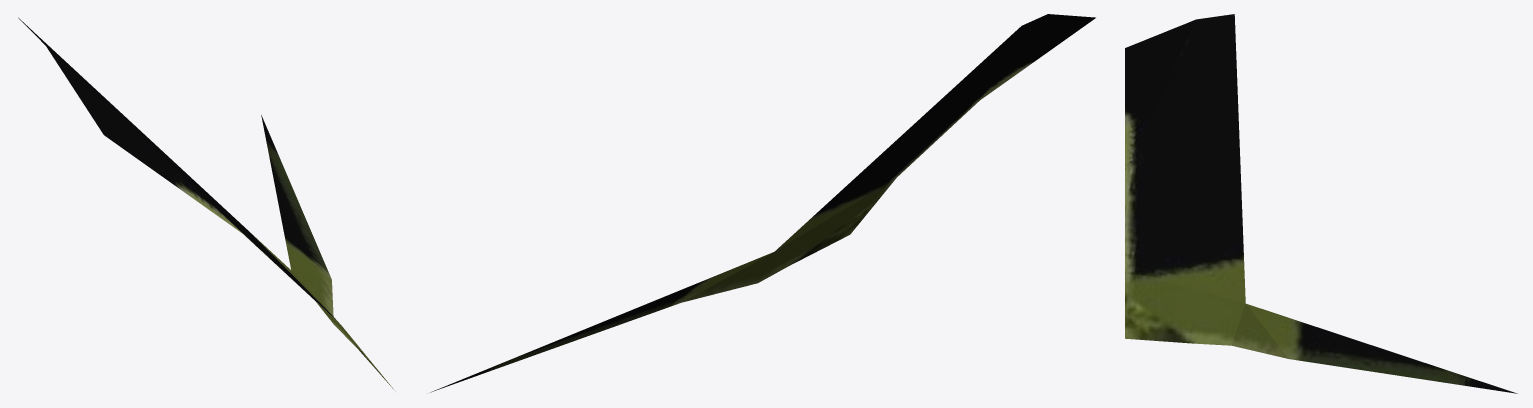
3 views of the same model, side by side, from view 1: azimuth 30°, elevation 25°; view 2: azimuth 150°, elevation 25°; view 3: azimuth 270°, elevation 25° (orthographic). The views are drawn at different scales.
Size of the model in its own units: 5.88 by 4.54 by 6.83.
1 material, 1 textured.
